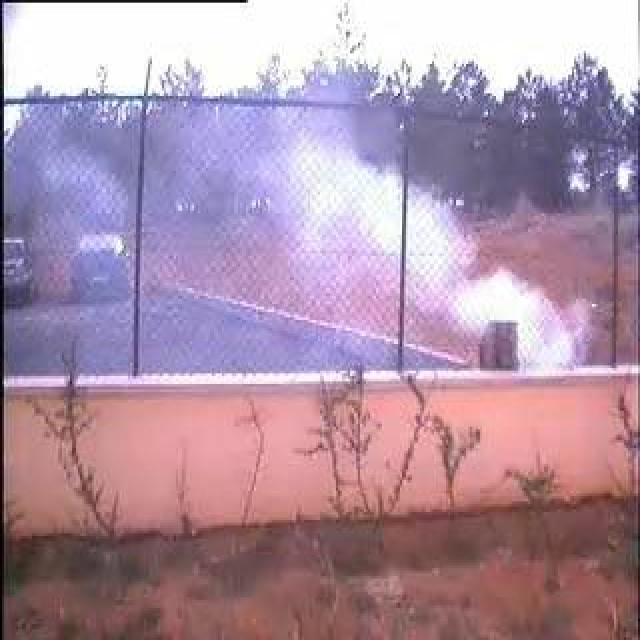Smoke: (185, 101, 565, 371)
